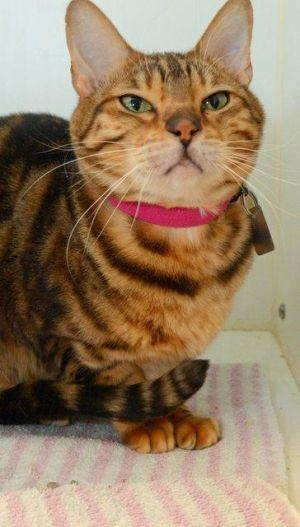bengal: (45, 1, 292, 210)
